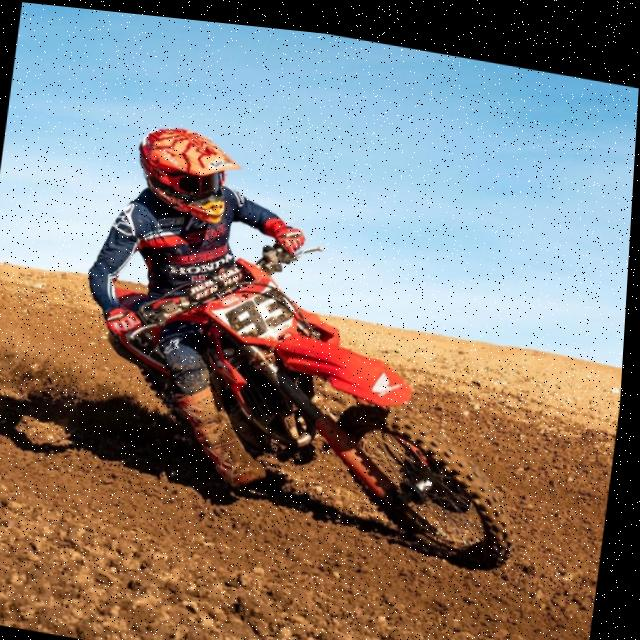illegal_helmet: (127, 111, 252, 226)
